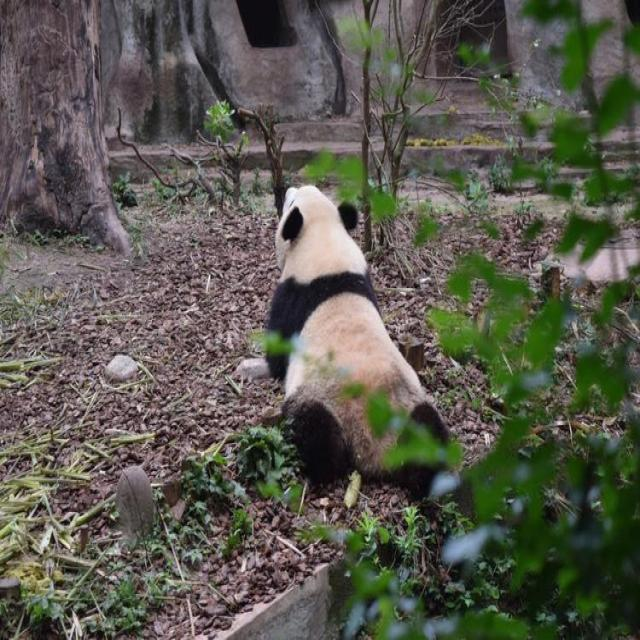panda: (237, 169, 453, 575)
